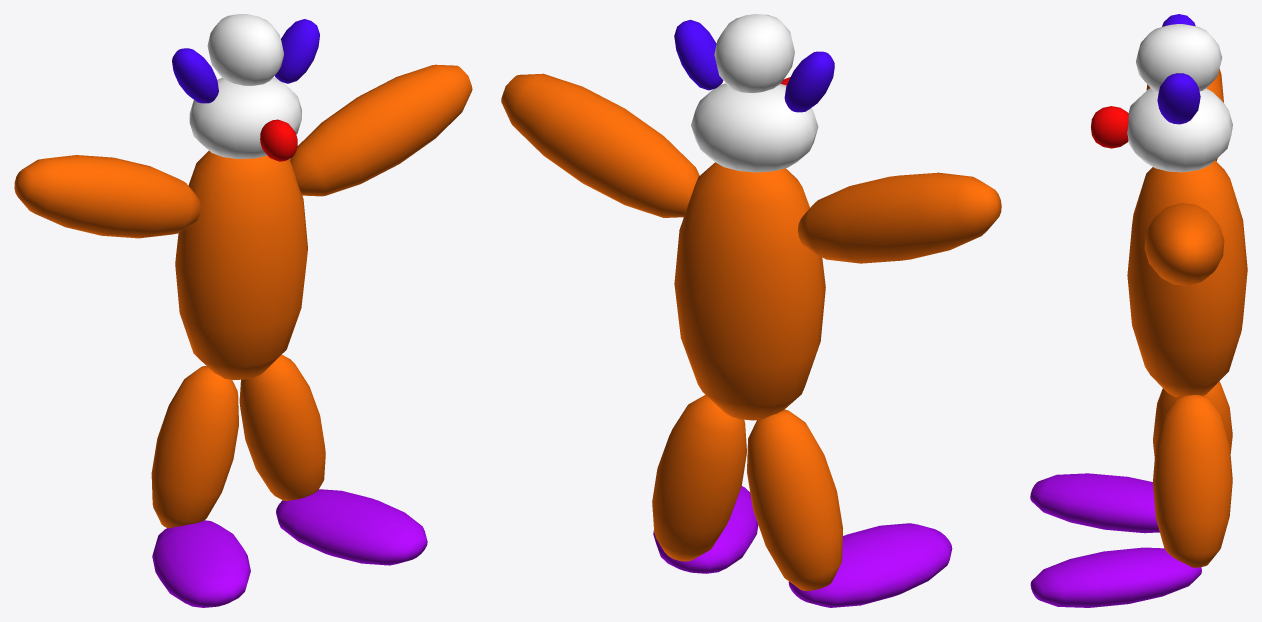
The model's file is balloonClown.fbx.
3 views of the same model, side by side, from view 1: azimuth 30°, elevation 25°; view 2: azimuth 150°, elevation 25°; view 3: azimuth 270°, elevation 25° (orthographic). The views are drawn at different scales.
Parts seen in each view (by area): view 1: Sphere.016; view 2: Sphere.016; view 3: Sphere.016.
Boxes of the visible parts, x1=… form: Sphere.016: x1=14, y1=14, x2=472, y2=607; Sphere.016: x1=501, y1=14, x2=1001, y2=607; Sphere.016: x1=1030, y1=14, x2=1247, y2=607.
Bounding box in the file's own units: 134 × 150 × 55.2.
